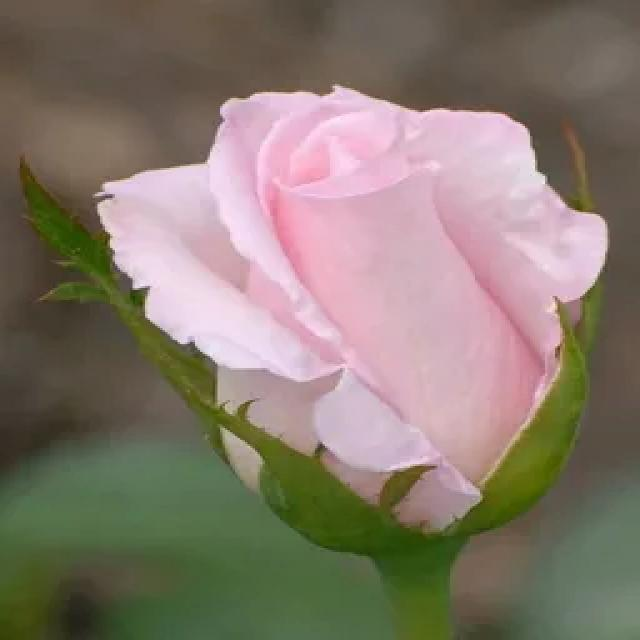rose: (75, 71, 631, 584)
